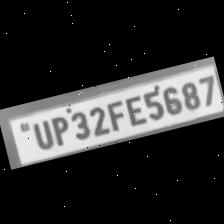2: (83, 100, 109, 138)
3: (64, 105, 92, 142)
5: (138, 85, 164, 122)
6: (158, 82, 183, 117)
7: (195, 70, 222, 106)
8: (174, 76, 202, 113)
E: (120, 91, 146, 127)
F: (102, 97, 127, 132)
P: (46, 112, 72, 148)
U: (27, 116, 55, 152)
